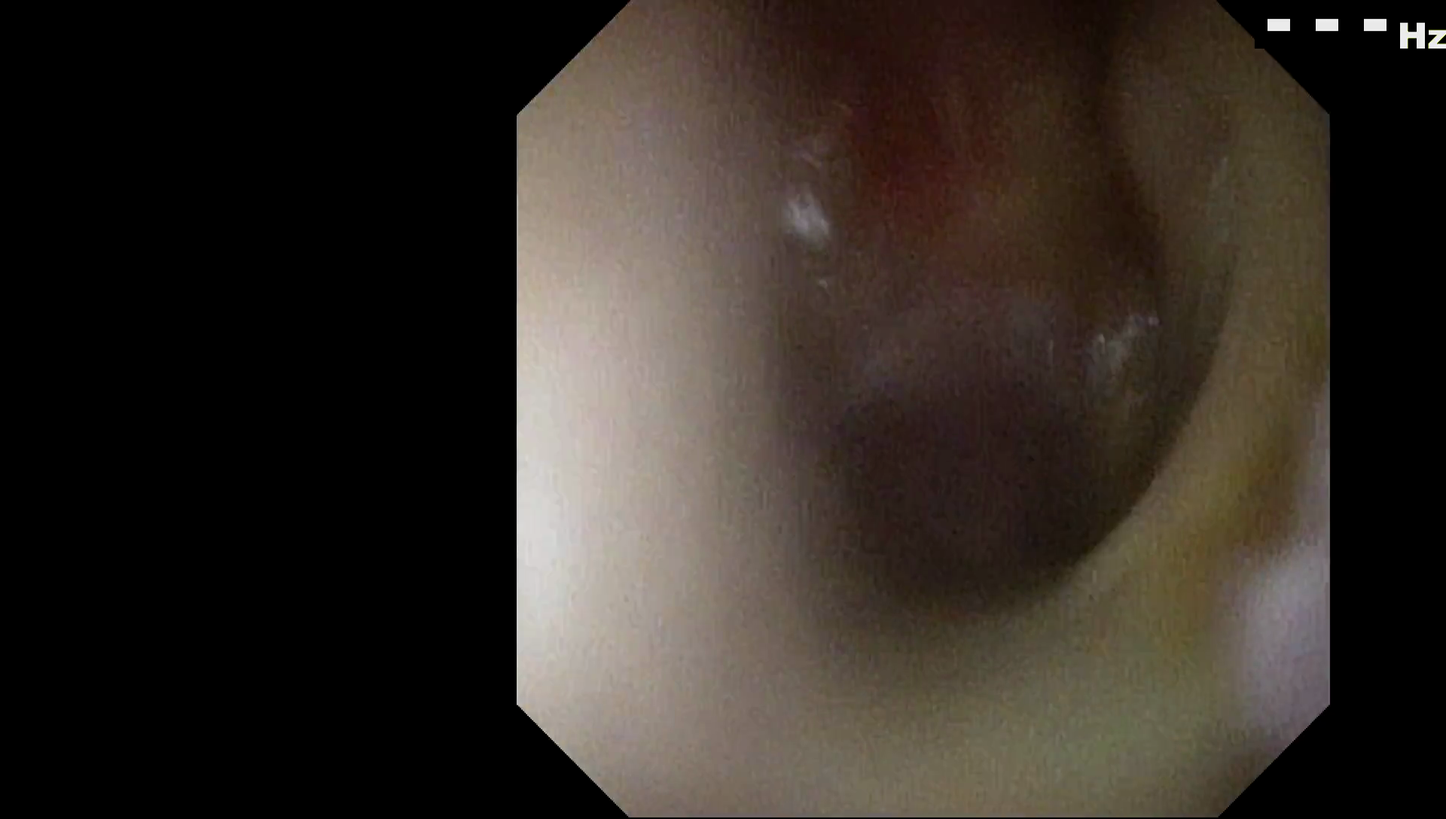close_wall: (520, 132, 877, 696)
next: (822, 357, 1190, 629), (1011, 0, 1154, 105)
